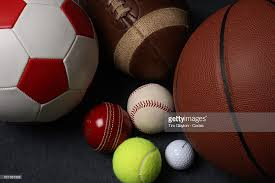red ball: (83, 102, 134, 154)
